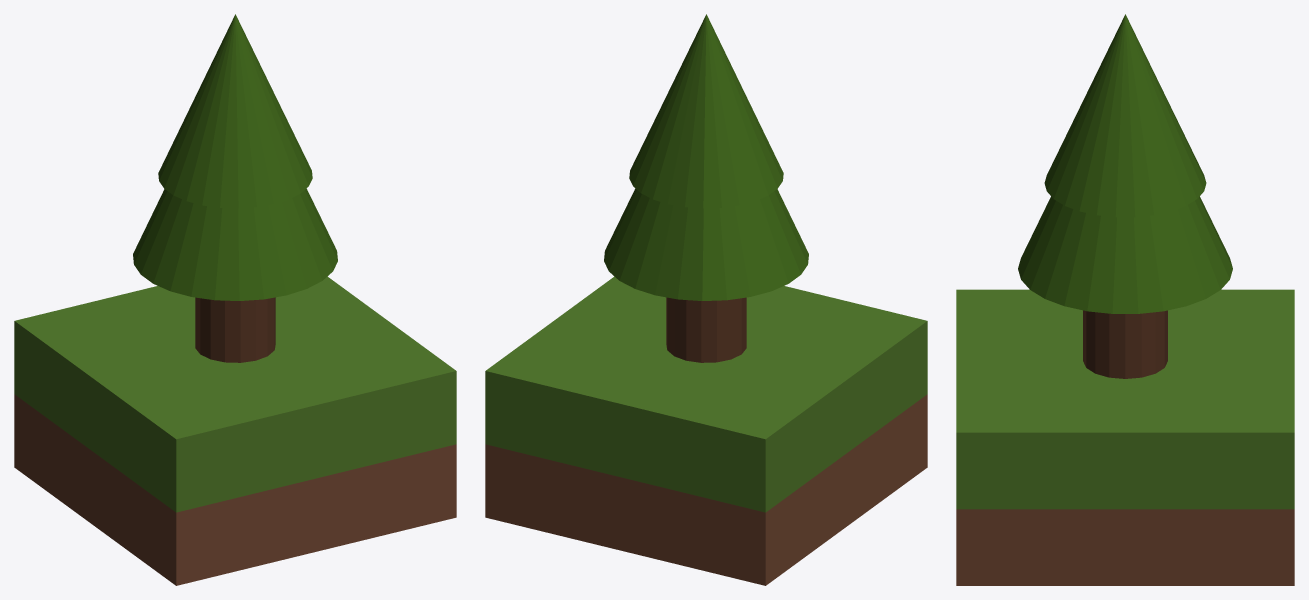
Rendered from Tree1.fbx.
The picture shows the model from 3 angles, left to right: view 1: azimuth 30°, elevation 25°; view 2: azimuth 150°, elevation 25°; view 3: azimuth 270°, elevation 25°; orthographic projection. The views are drawn at different scales.
Visible parts, largest first — view 1: Tree1; view 2: Tree1; view 3: Tree1.
Part boxes in pixels (box(x1,y1,x2,y2)): Tree1: box(14, 14, 456, 585); Tree1: box(485, 14, 927, 585); Tree1: box(956, 14, 1294, 585).
Bounding box in the file's own units: 100 × 163 × 100.
